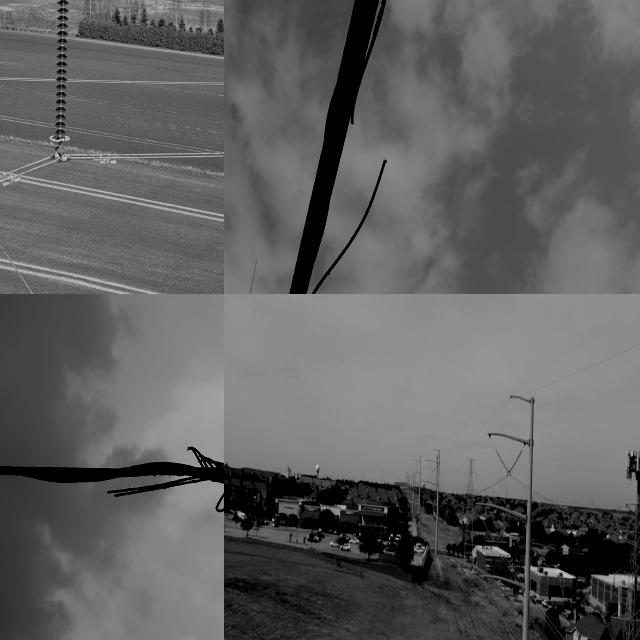杆塔: (603, 442, 640, 640), (462, 456, 480, 573)
正常绝缘子: (51, 0, 78, 147), (506, 449, 524, 476), (495, 449, 512, 476)
电缆破损: (268, 0, 421, 294), (0, 417, 224, 528)
